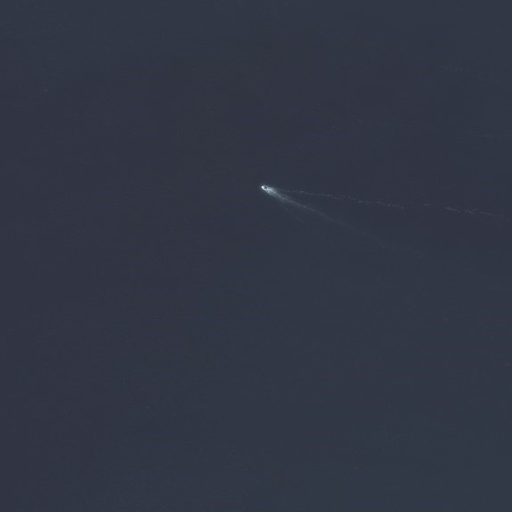ship: (258, 181, 278, 196)
